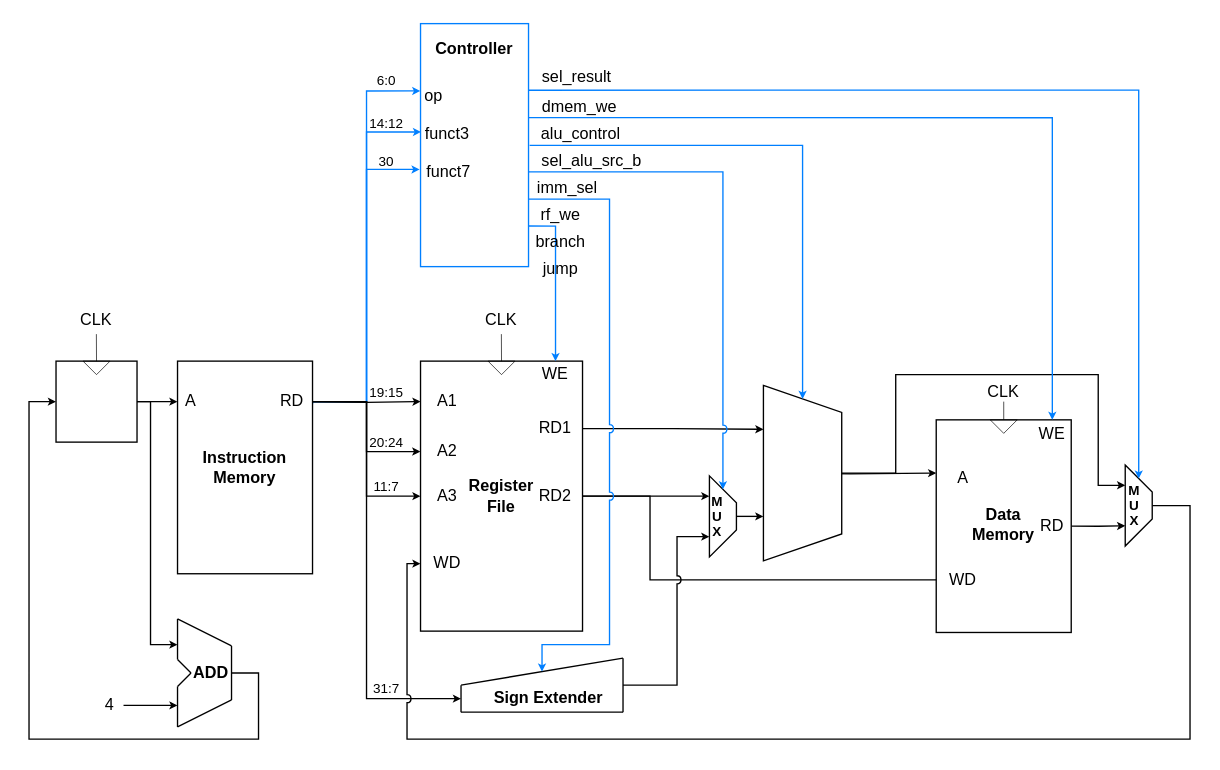
Image size: 1220x770. Some labels were removed from this diagram. Each missing label, with the box of its shape:
ALU: (762, 384, 842, 561)
Program Counter: (55, 360, 137, 442)
